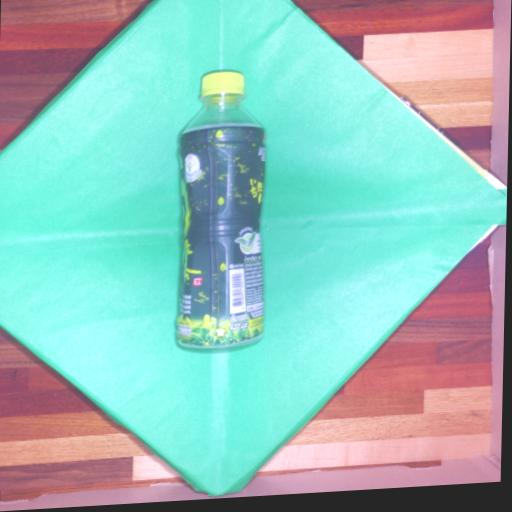bottle: (147, 48, 297, 373)
